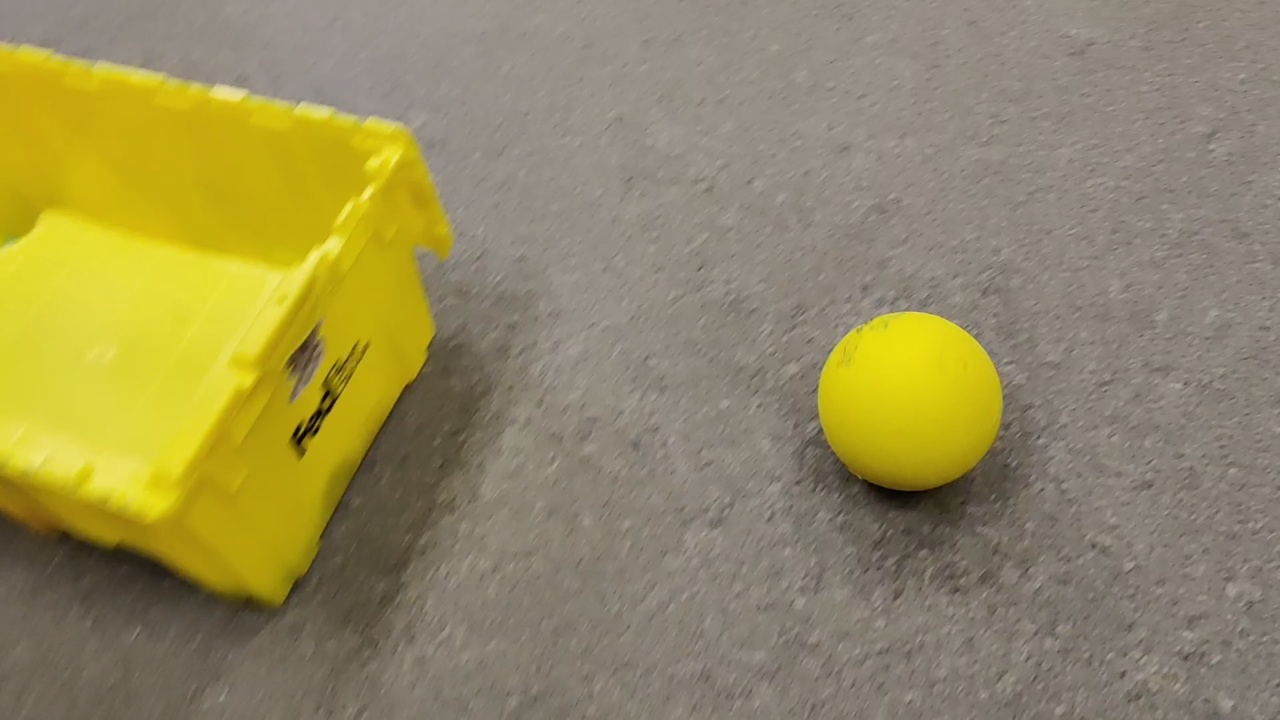Ball: (819, 312, 1007, 492)
